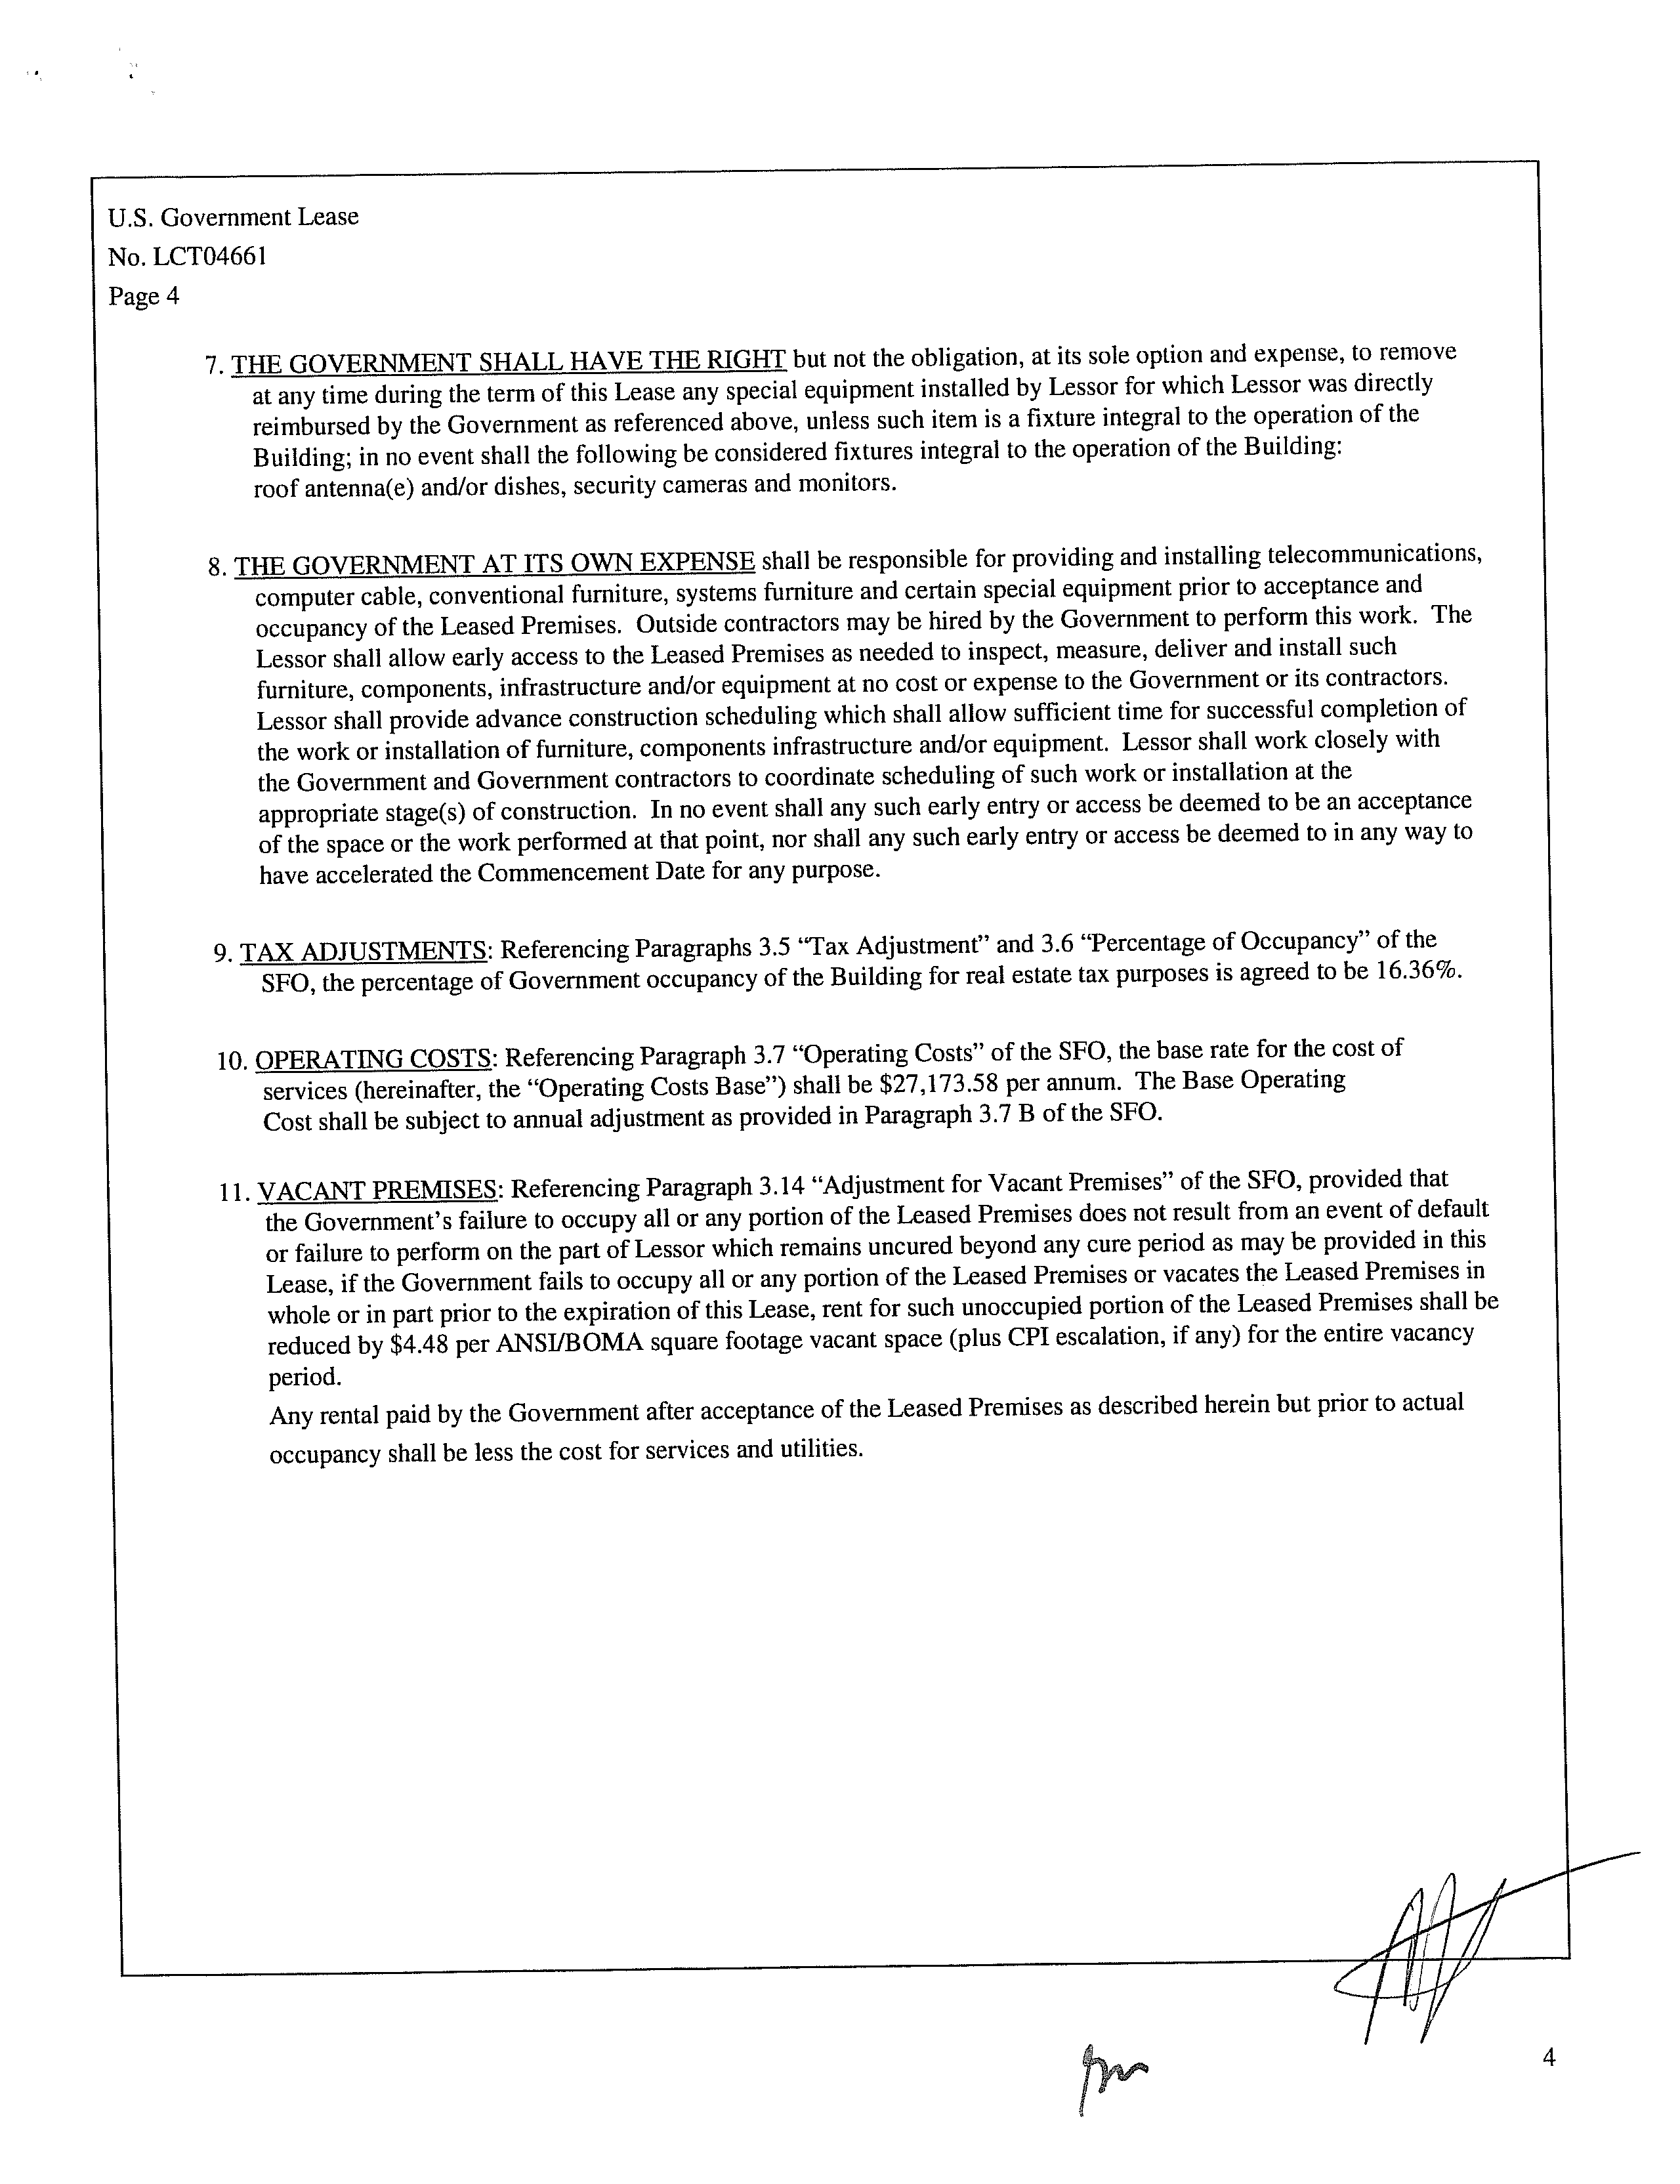handwritten: (1322, 1849, 1657, 2064), (1052, 2031, 1193, 2124)
